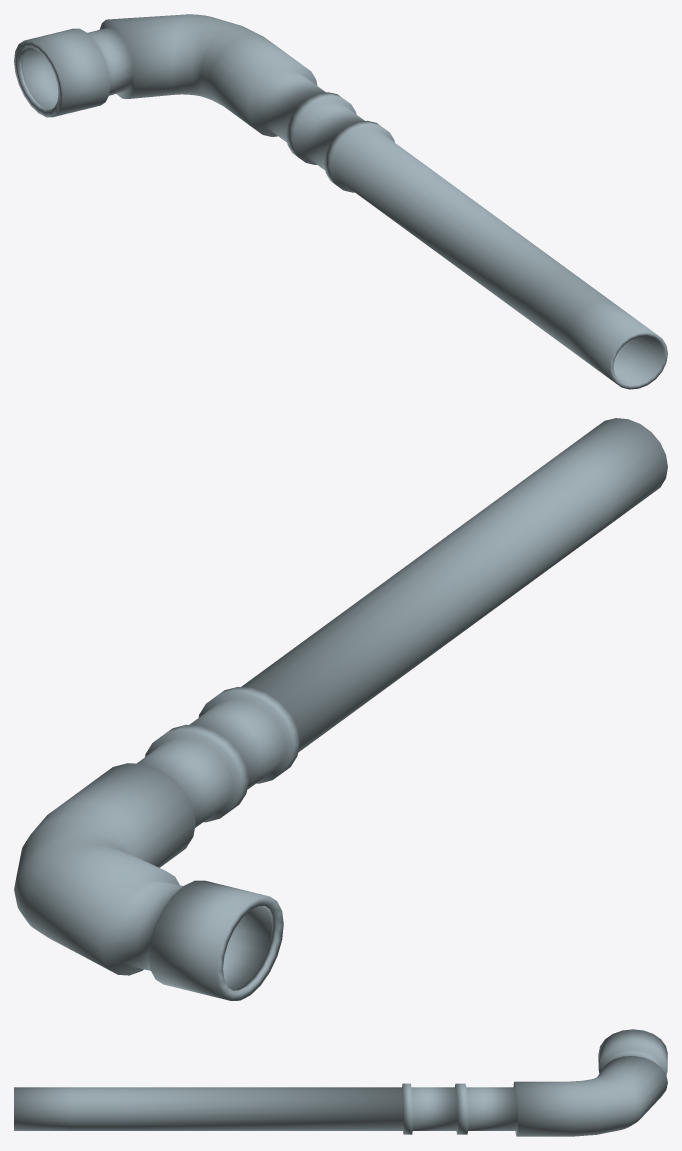
The model's file is PIPE.fbx.
3 renders of one model, top to bottom at view 1: azimuth 30°, elevation 25°; view 2: azimuth 150°, elevation 25°; view 3: azimuth 270°, elevation 25°, orthographic. The views are drawn at different scales.
Visible parts, largest first — view 1: Plane.001; view 2: Plane.001; view 3: Plane.001.
Boxes of the visible parts, <box> form: Plane.001: <box>14,14,667,389</box>; Plane.001: <box>14,418,667,1000</box>; Plane.001: <box>14,1029,667,1136</box>.
Bounding box in the file's own units: 14.79 × 5.03 × 59.93.
